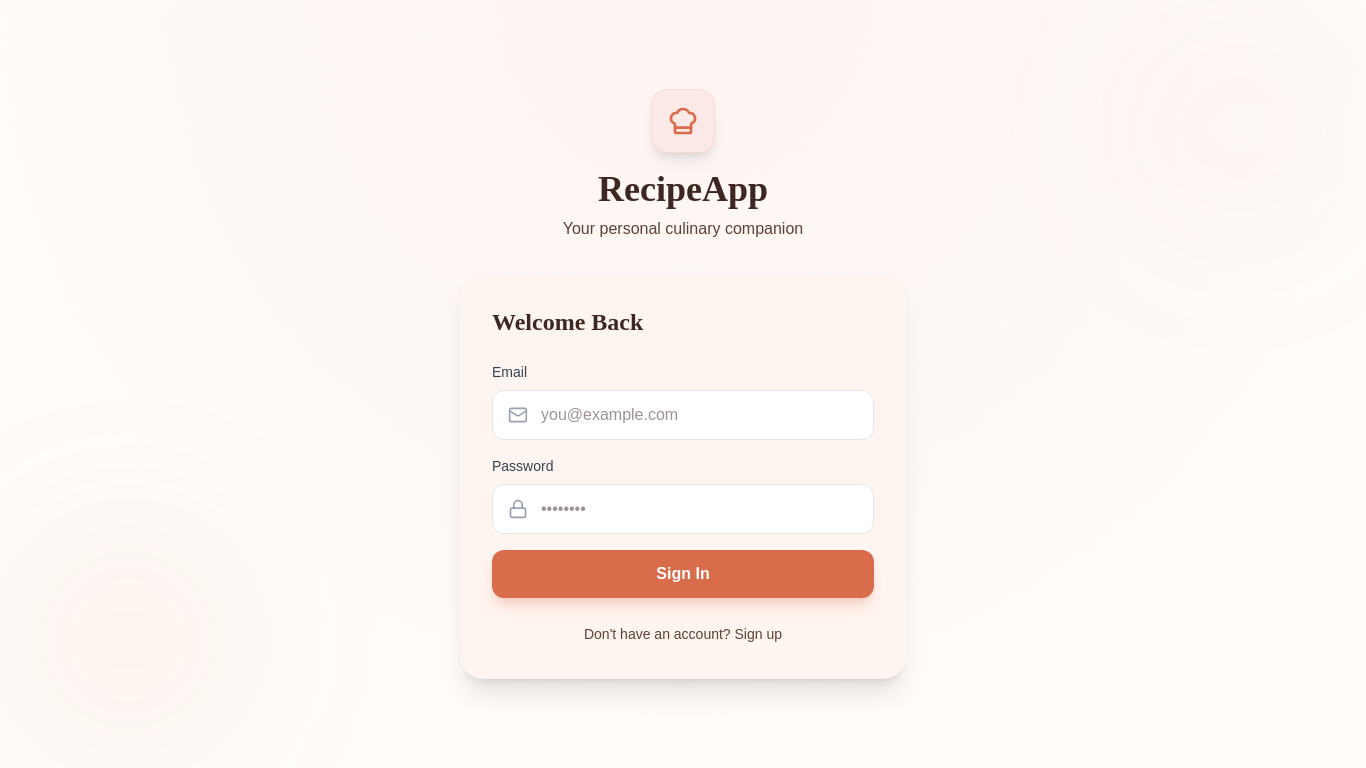
Scenario: AuthForm › should display error message on authentication failure
In the field labelled "Email": point(683, 415) [492,390,874,440], type "test@example.com"
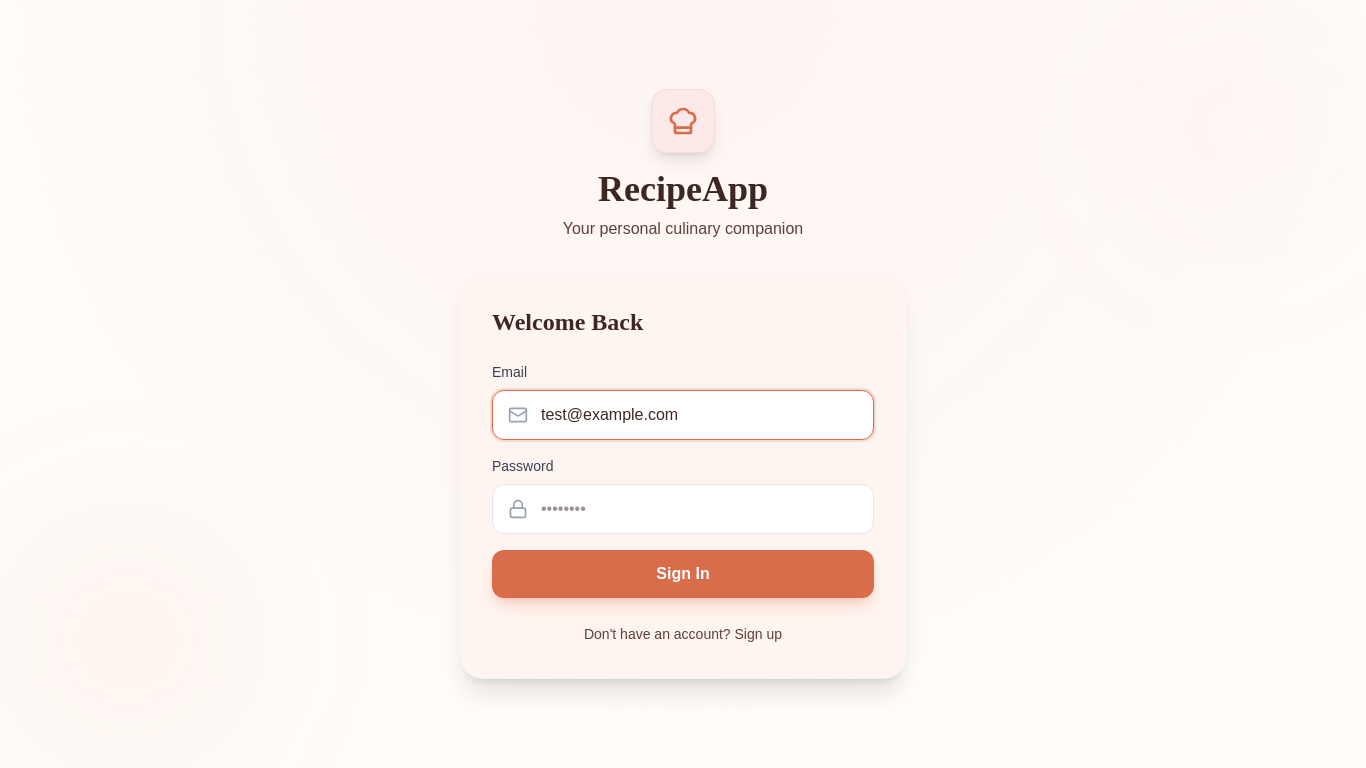
In the password field labelled "Password": point(683, 509) [492,484,874,534], type "wrongpassword"
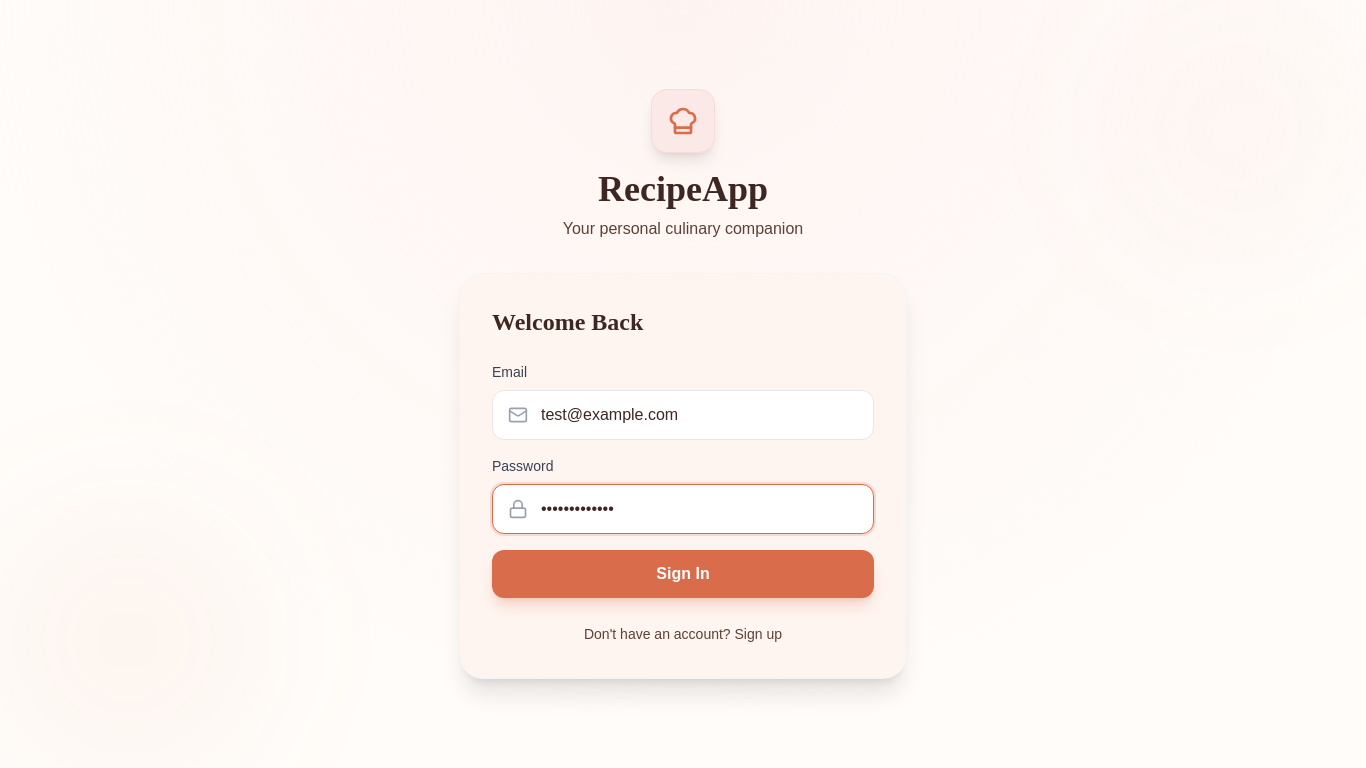
Click the button "Sign In": point(683, 574) [492,550,874,598]
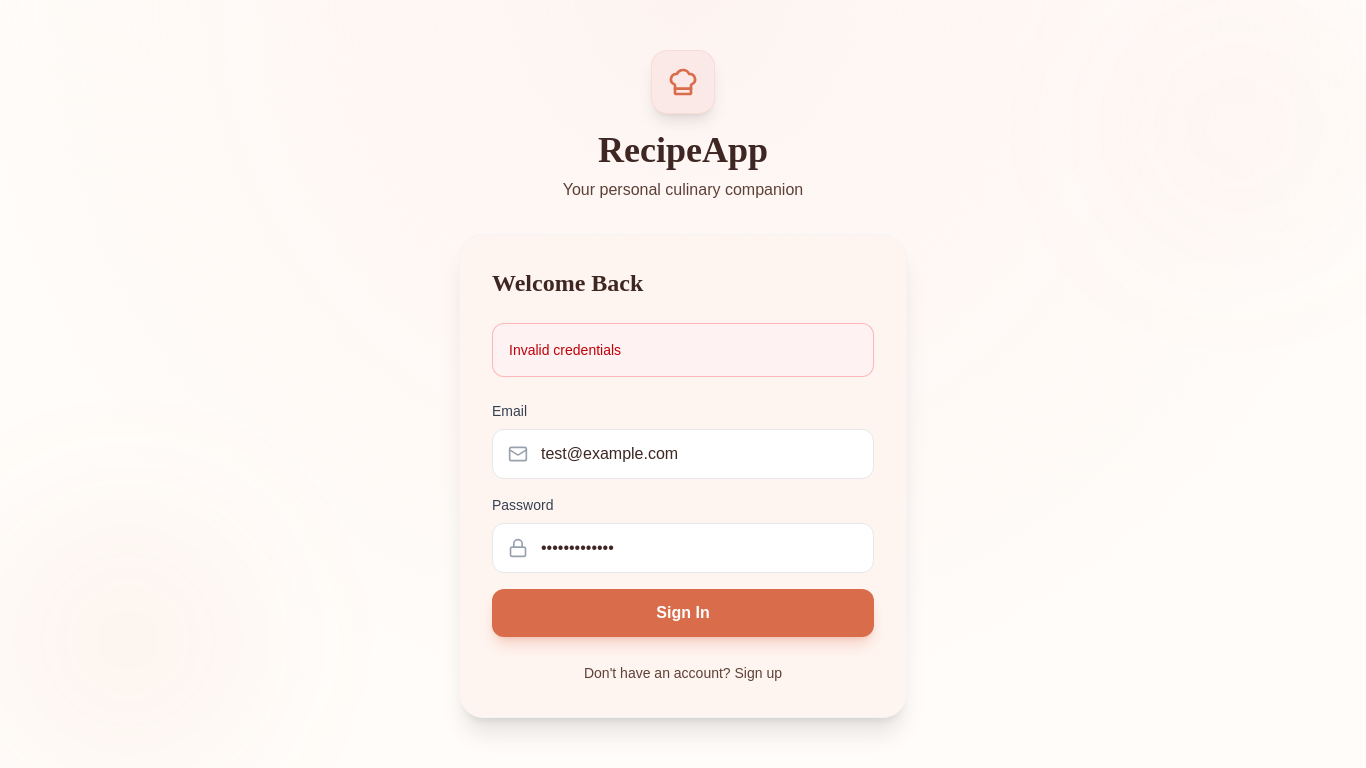
Result: the text "Invalid credentials" is shown at [492,323,874,377]
